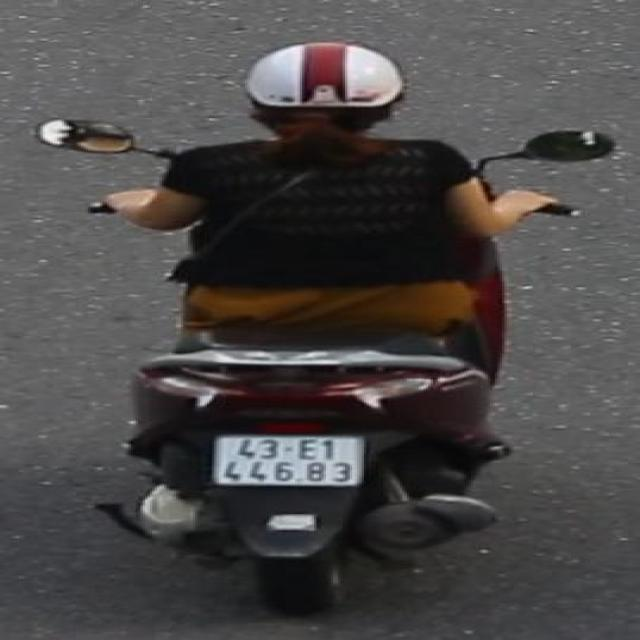helmet: (234, 35, 410, 144), (208, 432, 368, 492)
